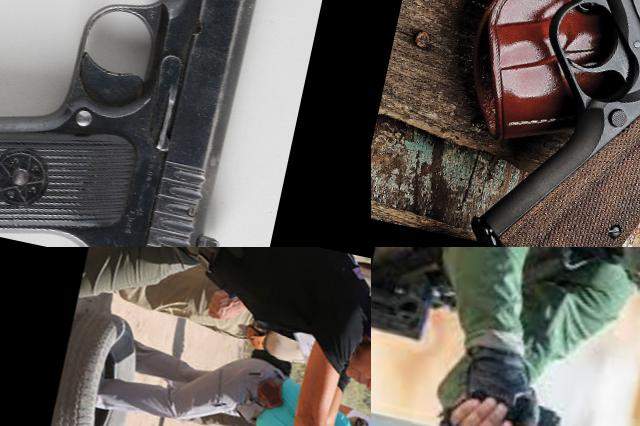handgun: (0, 0, 303, 247), (421, 0, 640, 247), (423, 377, 574, 426)
